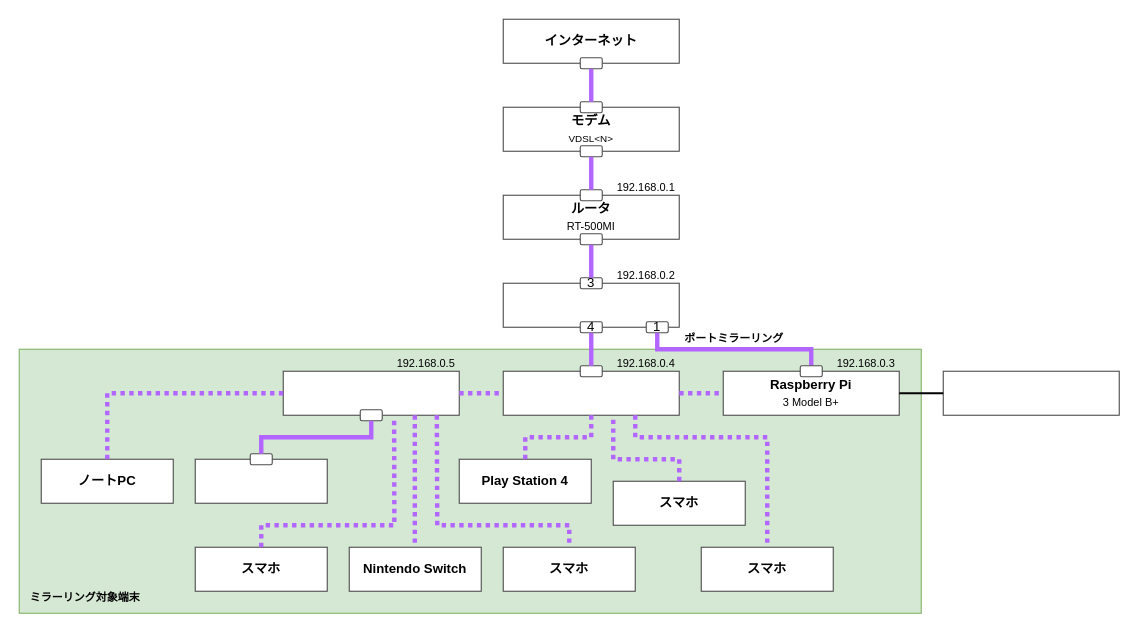
The diagram is 1139 pixels wide and 633 high, and some of its shapes have lost their labels. The shapes that lost their labels are listed below. From the top down, each one's box as (x1, y1, x2, y2) in pixels, then its label:
(502, 282, 679, 327): スイッチングハブ TL-SG108PE
(282, 370, 459, 415): Wi-Fi ルータ（中継機） WEX-1166DHP
(502, 370, 679, 415): Wi-Fi ルータ Archer C6
(942, 370, 1119, 415): 外付け HDD WDBBKG0040HBK-JESN
(194, 458, 327, 503): デスクトップPC
